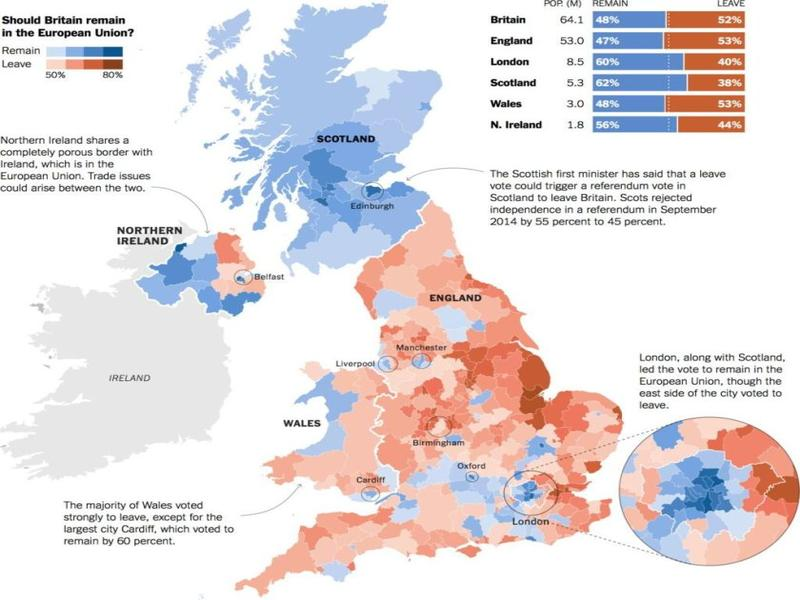legend: (1, 12, 135, 81)
